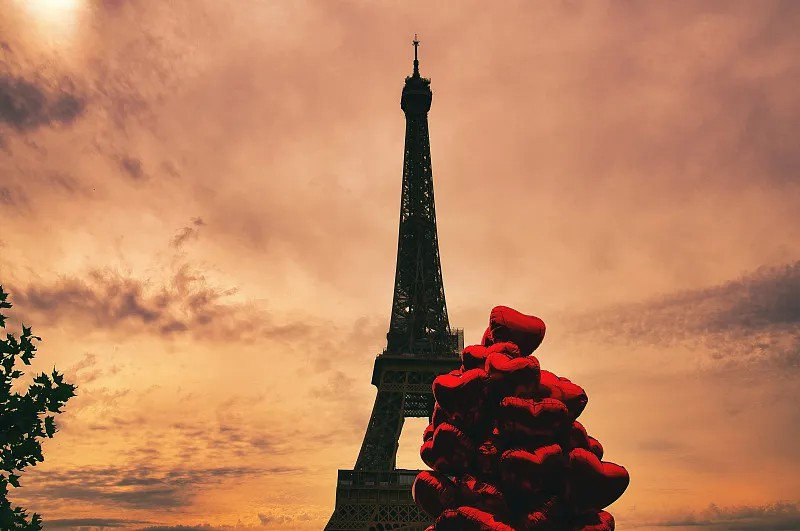Eiffel: (323, 34, 465, 531)
